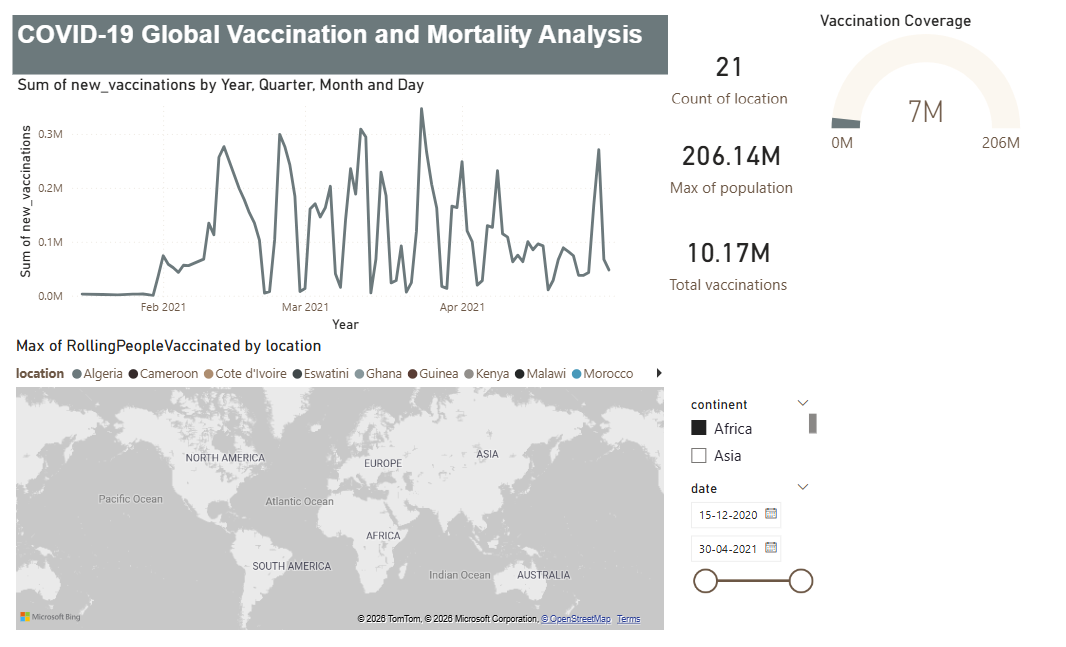

The page's visual inventory and layout, read from the dashboard file:
{"tool":"powerbi","page":{"name":"Page 1","canvas":[1280,720],"ordinal":0},"visuals":[{"type":"lineChart","fields":{"Category":["Query1.date.Variation.Date Hierarchy.Year","Query1.date.Variation.Date Hierarchy.Quarter","Query1.date.Variation.Date Hierarchy.Month","Query1.date.Variation.Date Hierarchy.Day"],"Y":["Sum(Query1.new_vaccinations)"]},"box":[52.5,107.5,657.5,275],"z":0},{"type":"card","fields":{"Values":["Count(Query1.location)"]},"box":[710,50,192.5,112.5],"z":1000},{"type":"slicer","fields":{"Values":["Query1.continent"]},"box":[752.9,440,150,88.6],"z":2000},{"type":"card","fields":{"Values":["Sum(Query1.new_vaccinations)"]},"box":[714.3,222.9,182.9,160],"z":3000},{"type":"card","fields":{"Values":["Max(Query1.population)"]},"box":[682.9,137.1,252.9,125.7],"z":4000},{"type":"textbox","box":[52.5,400,630,57.5],"z":5000},{"type":"textbox","box":[52.5,45,690,62.5],"z":6000},{"type":"map","fields":{"Series":["Query1.location"],"Size":["Max(Query1.RollingPeopleVaccinated)"]},"box":[50,382.5,692.5,315],"z":7000},{"type":"actionButton","box":[0,0,100,40],"z":8000},{"type":"slicer","fields":{"Values":["Query1.date"]},"box":[752.9,528.6,150,170],"z":8001},{"type":"gauge","title":"Vaccination Coverage","fields":{"Y":["Max(Query1.RollingPeopleVaccinated)"],"MaxValue":["Max(Query1.population)"]},"box":[897.1,40,232.9,160],"z":8002}]}

Visuals, with their boxes on the page's 1280x720 design canvas (x1, y1, x2, y2). These are canvas units, not pixel positions in the 1066x647 screenshot, which may show the page scaled, cropped or inside an application window:
lineChart - Query1.date.Variation.Date Hierarchy.Year x Query1.date.Variation.Date Hierarchy.Quarter: bbox(52, 108, 710, 382)
card - Count(Query1.location): bbox(710, 50, 902, 162)
slicer - Query1.continent: bbox(753, 440, 903, 529)
card - Sum(Query1.new_vaccinations): bbox(714, 223, 897, 383)
card - Max(Query1.population): bbox(683, 137, 936, 263)
textbox: bbox(52, 400, 682, 458)
textbox: bbox(52, 45, 742, 108)
map - Query1.location x Max(Query1.RollingPeopleVaccinated): bbox(50, 382, 742, 698)
actionButton: bbox(0, 0, 100, 40)
slicer - Query1.date: bbox(753, 529, 903, 699)
"Vaccination Coverage" gauge: bbox(897, 40, 1130, 200)
